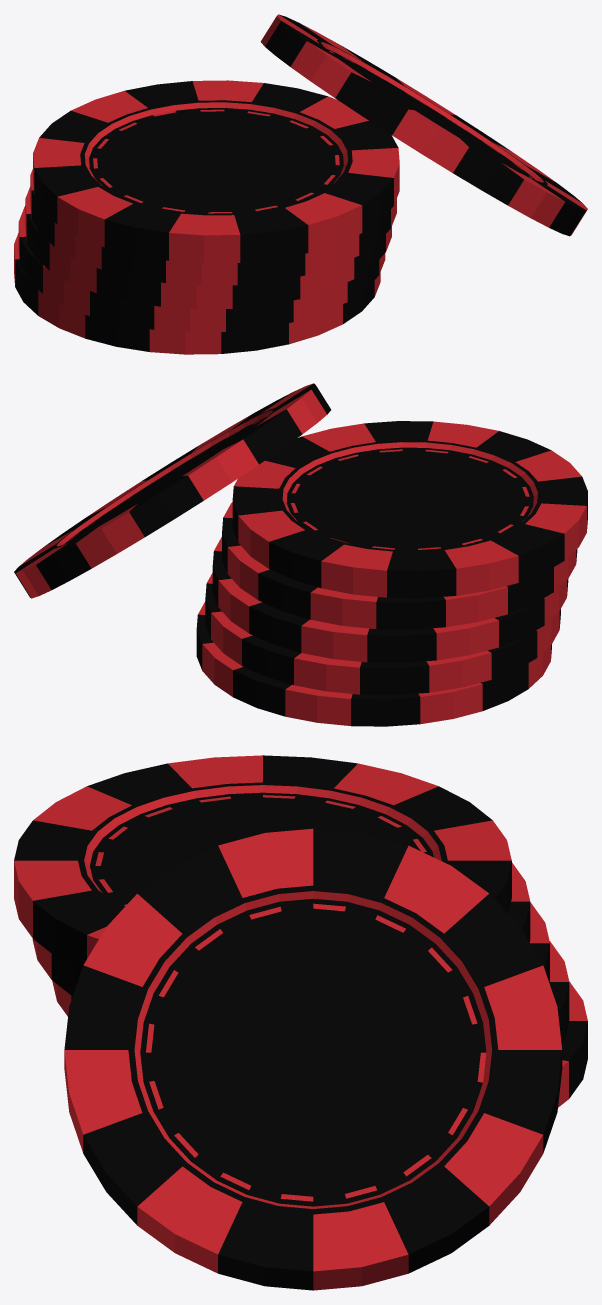
File: fichas.fbx
The picture shows the model from 3 angles, top to bottom: view 1: azimuth 30°, elevation 25°; view 2: azimuth 150°, elevation 25°; view 3: azimuth 270°, elevation 25°; orthographic projection. The views are drawn at different scales.
Parts seen in each view (by area): view 1: Cylinder.004, Cylinder.005, Cylinder.002, Cylinder.001, Cylinder, Cylinder.003; view 2: Cylinder.004, Cylinder.005, Cylinder.002, Cylinder.001, Cylinder.003, Cylinder; view 3: Cylinder.005, Cylinder.004, Cylinder, Cylinder.003, Cylinder.001, Cylinder.002.
Boxes of the visible parts, x1,y1,x2,y2 form: Cylinder.004: (33,80,399,263); Cylinder.005: (260,14,587,236); Cylinder.002: (25,187,391,309); Cylinder.001: (18,206,385,332); Cylinder: (14,233,380,354); Cylinder.003: (30,169,396,285); Cylinder.004: (232,421,587,598); Cylinder.005: (14,383,331,598); Cylinder.002: (212,537,568,662); Cylinder.001: (205,573,560,695); Cylinder.003: (222,502,577,629); Cylinder: (196,601,551,726); Cylinder.005: (64,828,562,1290); Cylinder.004: (14,755,511,969); Cylinder: (558,981,587,1107); Cylinder.003: (32,862,530,996); Cylinder.001: (549,941,569,1043); Cylinder.002: (52,902,549,1016).
Bounding box in the file's own units: 223 × 92.94 × 158.
